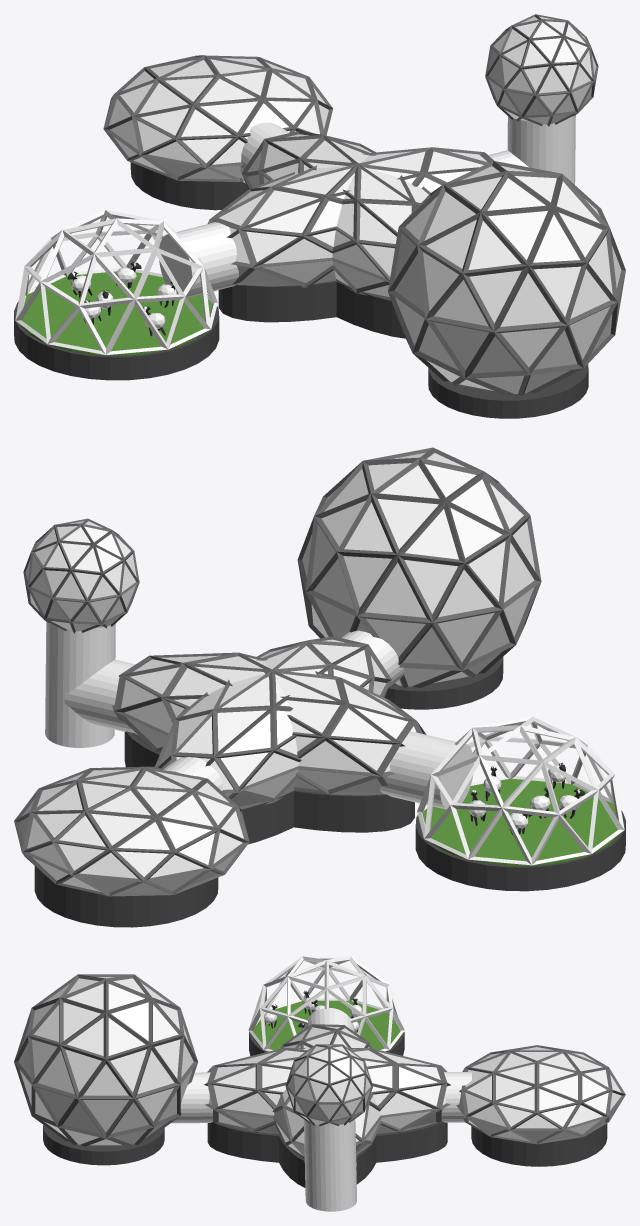
Rendered from MarsScienceLabAnimalFarm.fbx.
3 views of the same model, one above another, from view 1: azimuth 30°, elevation 25°; view 2: azimuth 150°, elevation 25°; view 3: azimuth 270°, elevation 25° (orthographic). The views are drawn at different scales.
Parts seen in each view (by area): view 1: Icosphere.142; view 2: Icosphere.142; view 3: Icosphere.142.
Part boxes in pixels (x1,y1,x2,y2): Icosphere.142: (14,14,625,418); Icosphere.142: (14,447,625,927); Icosphere.142: (14,956,625,1211).
Size of the model in its own units: 1166 by 436 by 1448.
